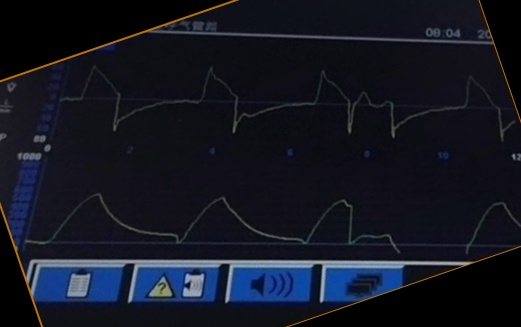Double_Triggering Flow: (67, 61, 498, 139)
Double_Triggering Volume: (45, 183, 500, 254)
